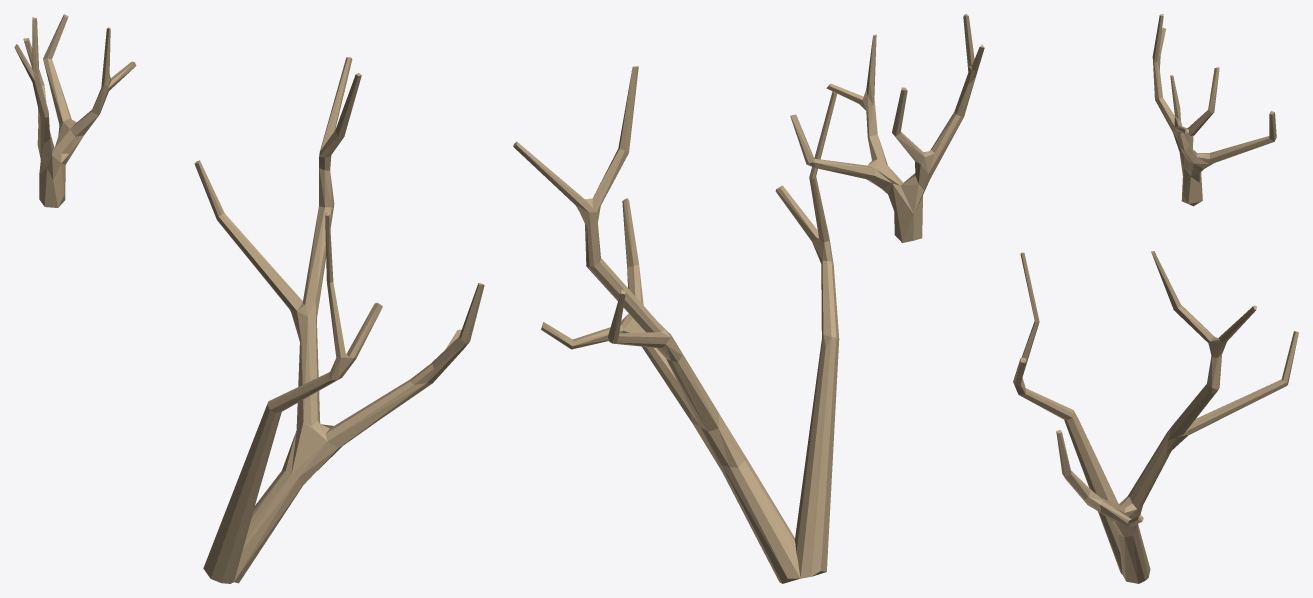
File: LightWoodDecorationSmallCliffSideDeadTree1.fbx
3 views of the same model, side by side, from view 1: azimuth 30°, elevation 25°; view 2: azimuth 150°, elevation 25°; view 3: azimuth 270°, elevation 25° (orthographic). The views are drawn at different scales.
Parts seen in each view (by area): view 1: LightWoodDecorationSmallCliffSideDeadTree1; view 2: LightWoodDecorationSmallCliffSideDeadTree1; view 3: LightWoodDecorationSmallCliffSideDeadTree1.
Boxes of the visible parts, x1=… form: LightWoodDecorationSmallCliffSideDeadTree1: x1=14, y1=14, x2=484, y2=583; LightWoodDecorationSmallCliffSideDeadTree1: x1=513, y1=14, x2=984, y2=583; LightWoodDecorationSmallCliffSideDeadTree1: x1=1013, y1=14, x2=1298, y2=583.
Bounding box in the file's own units: 1518 × 1985 × 1043.
